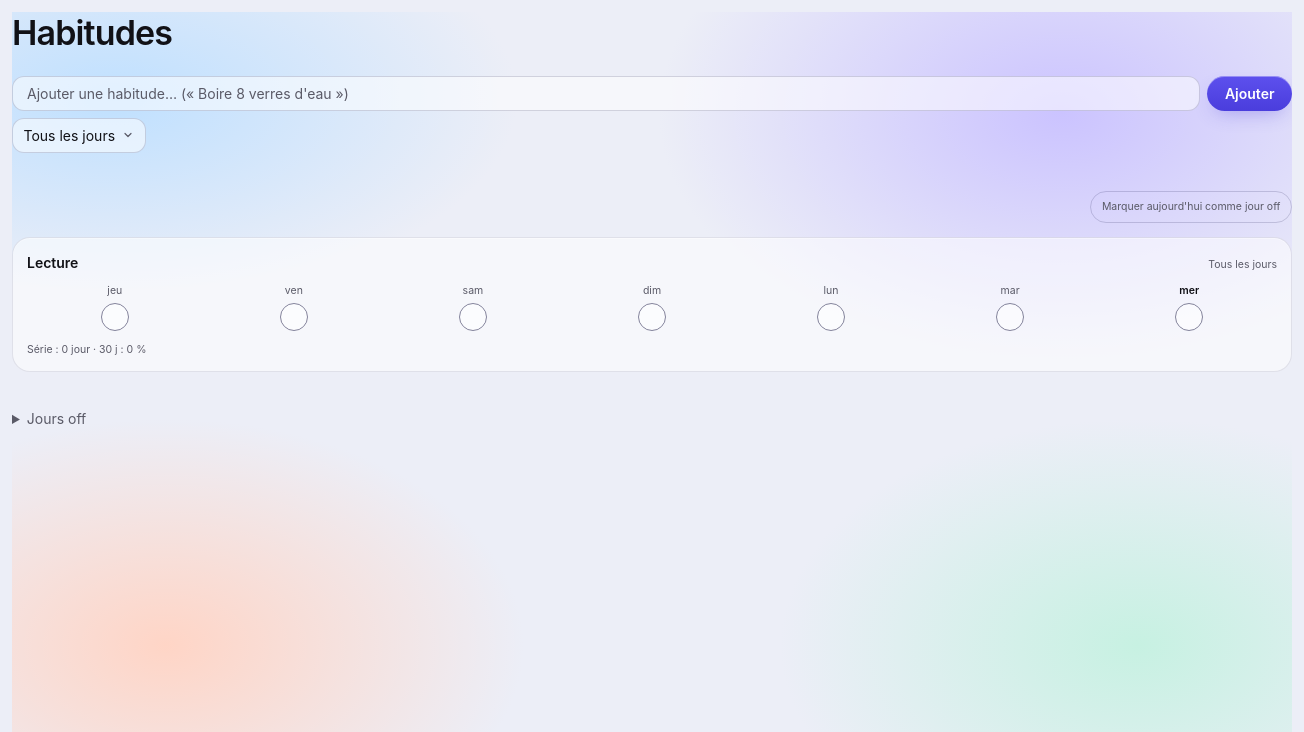
Test case: HabitsPage › coche aujourd'hui en un clic et met à jour la série
Check: the link "Lecture" is shown, box 27,252 -> 78,272
Check: the text "Série : 0 jour · 30 j : 0 %" is shown, box 27,342 -> 146,356
Click the button "mer". click: coordinates (1189, 308)
box: 1101,280 -> 1277,336
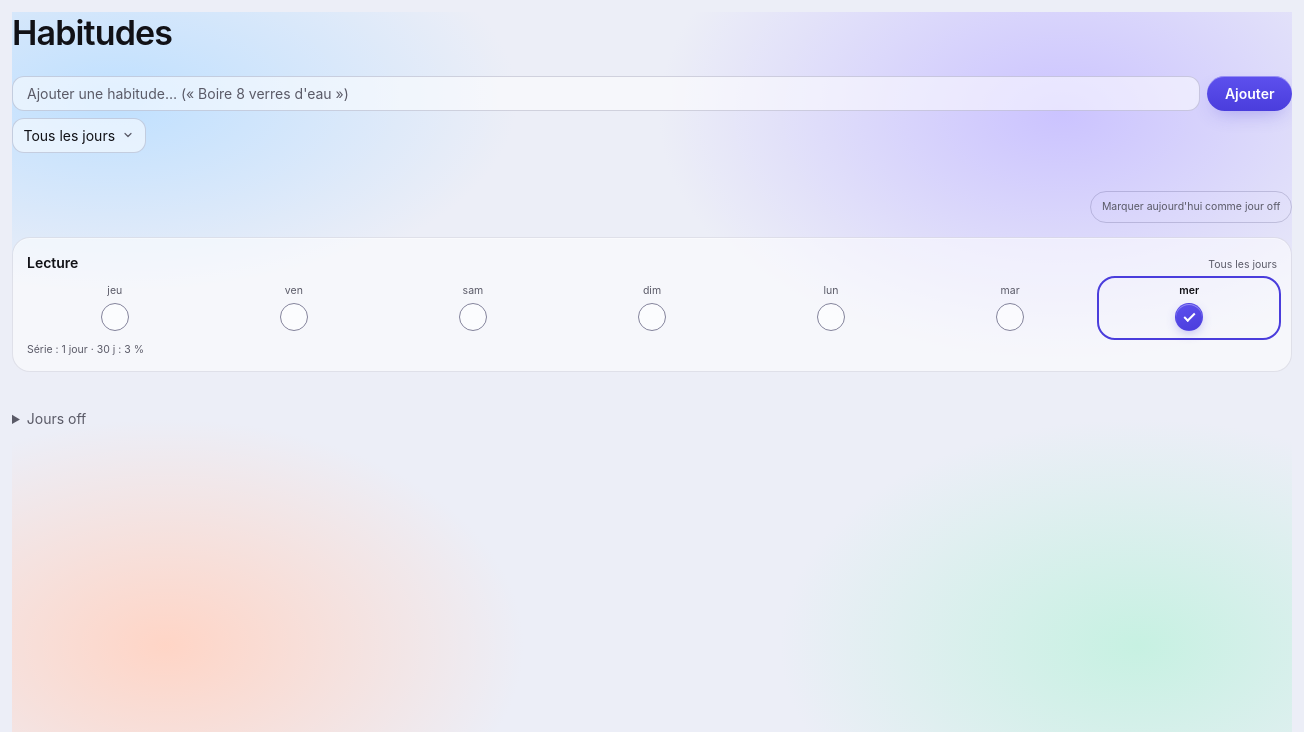
Check: the text "Série : 1 jour · 30 j : 3 %" is shown, box 27,342 -> 144,356
